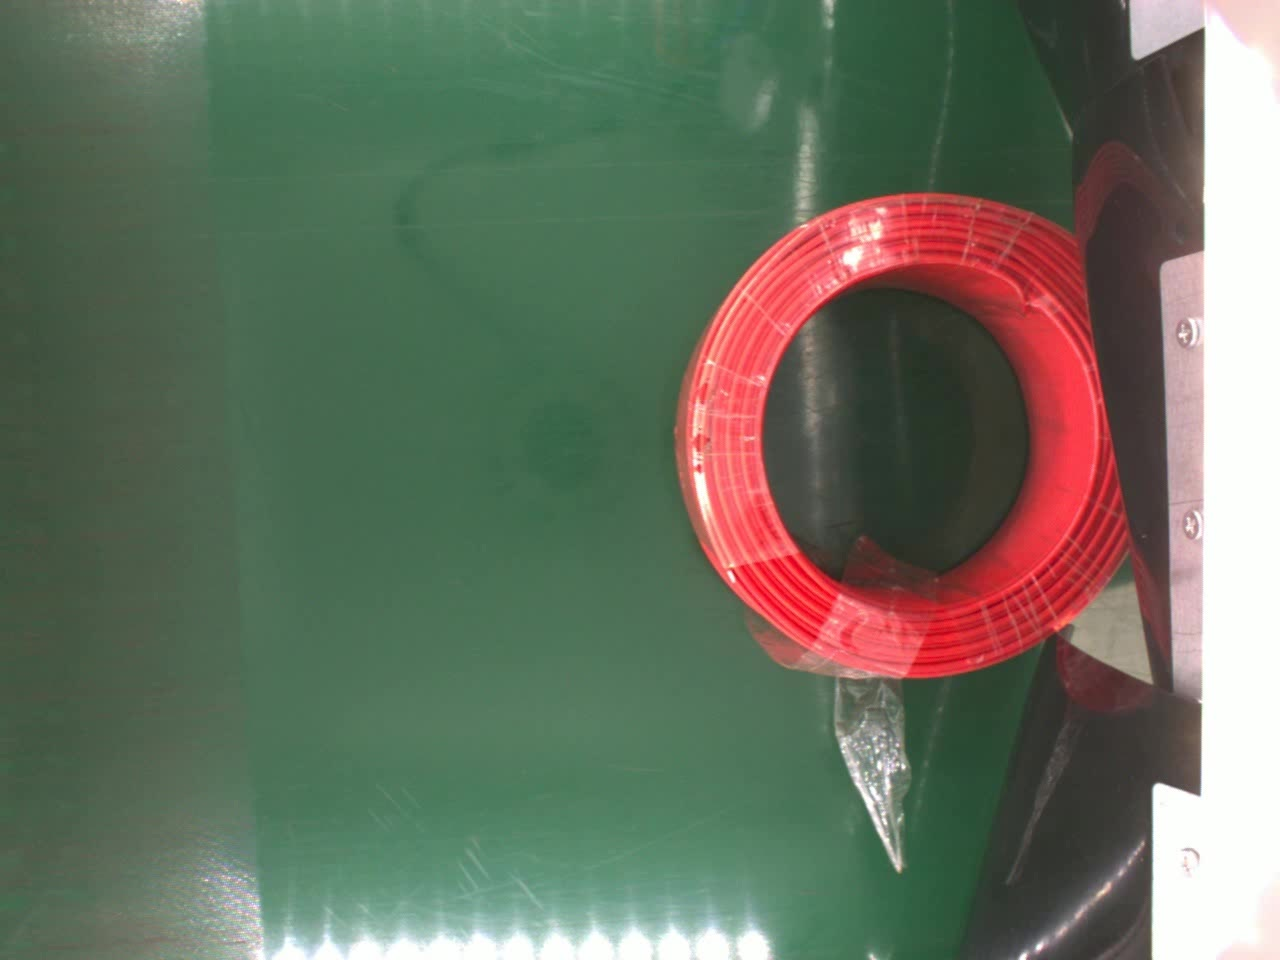red: (673, 190, 1129, 679)
